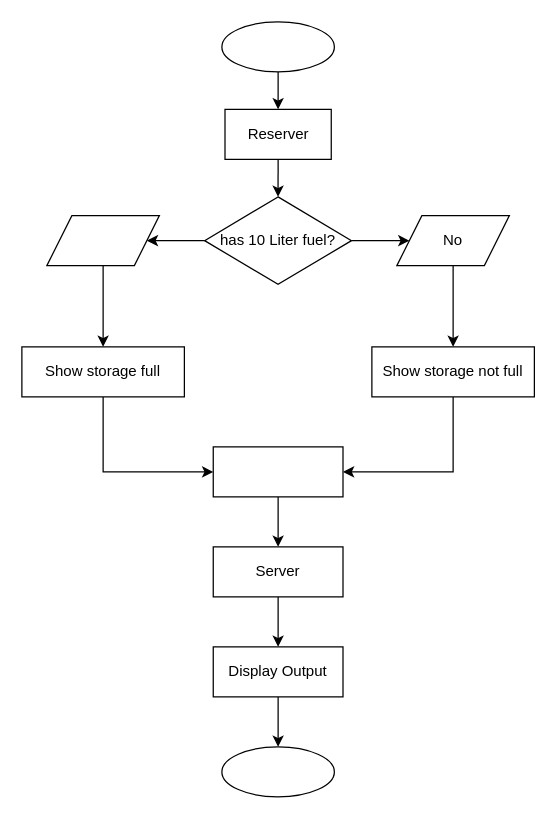
Image size: 556x819. Some labels were removed from this diagram. Here are the shapes that lost their labels. From the top down, the centre of each, then its label:
At (277,46): "Start".
At (102,240): "Yes".
At (277,471): "ESP32".
At (277,771): "End".
